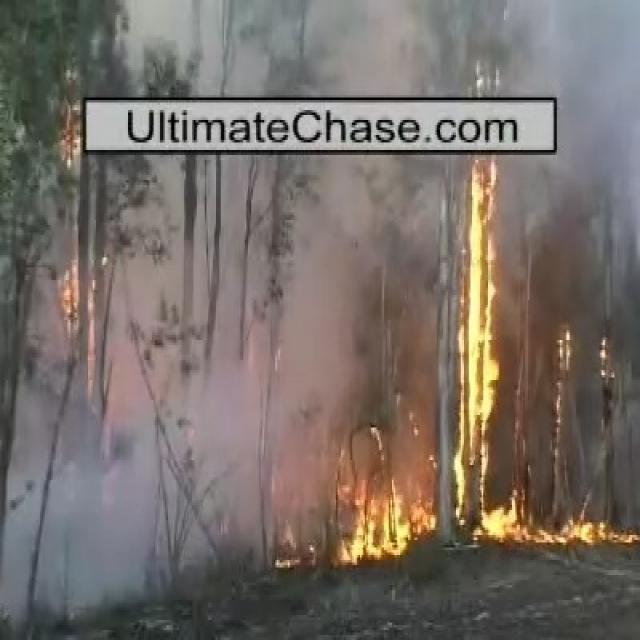fire: (457, 166, 498, 518), (353, 496, 437, 560)
smoke: (20, 395, 100, 590), (470, 4, 573, 82)
